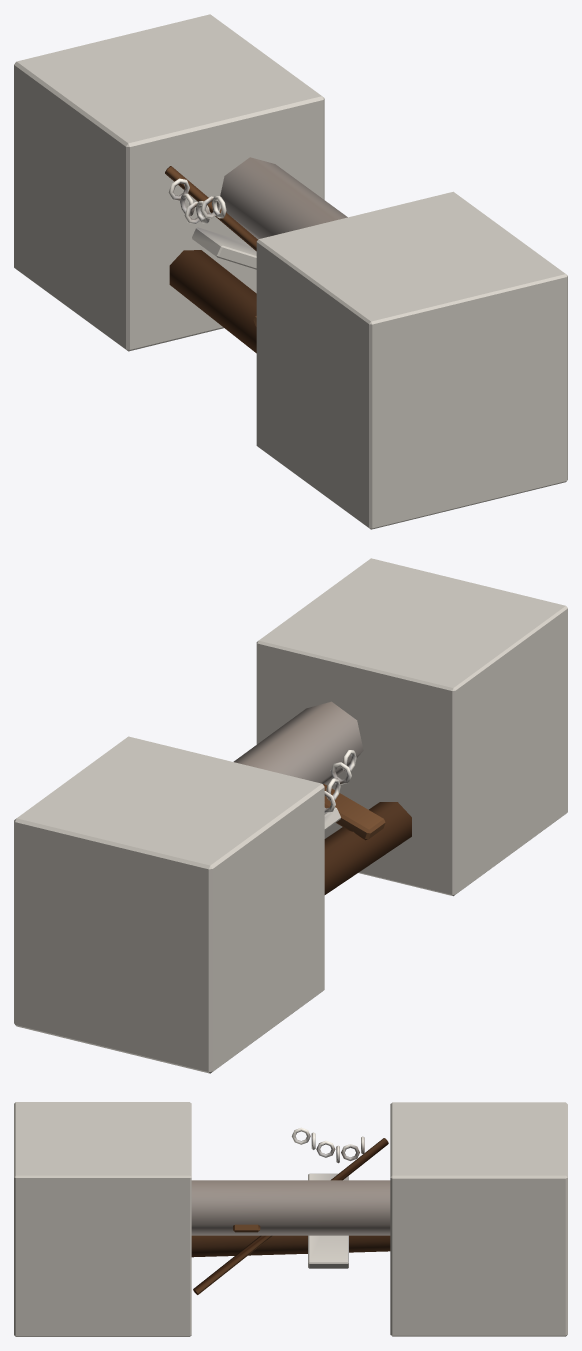
File: R4C_STRUT_STANDARD.fbx
The picture shows the model from 3 angles, top to bottom: view 1: azimuth 30°, elevation 25°; view 2: azimuth 150°, elevation 25°; view 3: azimuth 270°, elevation 25°; orthographic projection. The views are drawn at different scales.
Visible parts, largest first — view 1: R4C_STRUT_STANDARD; view 2: R4C_STRUT_STANDARD; view 3: R4C_STRUT_STANDARD.
Boxes of the visible parts, x1,y1,x2,y2 form: R4C_STRUT_STANDARD: [14, 14, 567, 529]; R4C_STRUT_STANDARD: [14, 558, 567, 1073]; R4C_STRUT_STANDARD: [14, 1102, 567, 1336].
Bounding box in the file's own units: 0.52 × 0.52 × 1.62.
